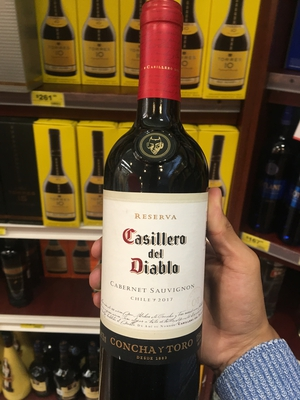casillero del diablo cabernet sauvignon: (88, 14, 215, 400)
